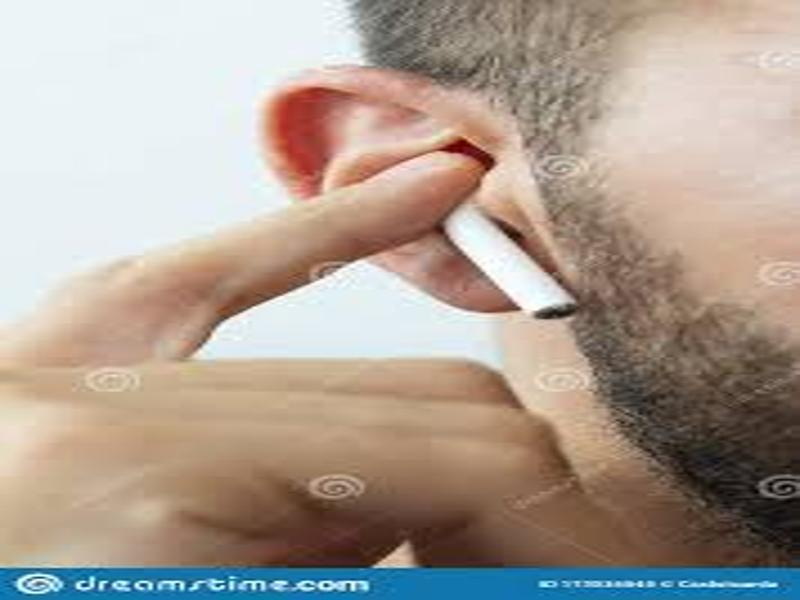headphone: (440, 180, 577, 321)
